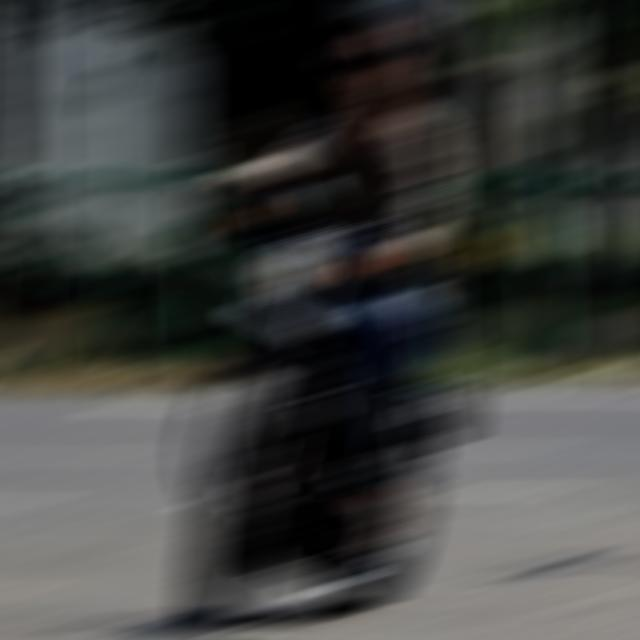Without Helmet: (326, 3, 429, 107)
